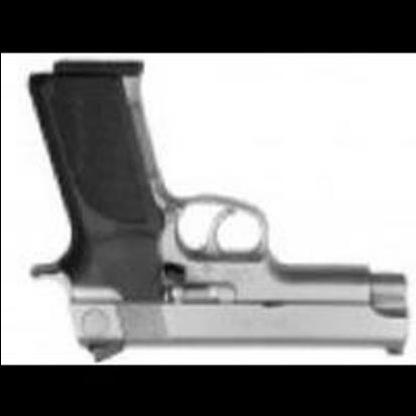weapon: (24, 56, 416, 360)
